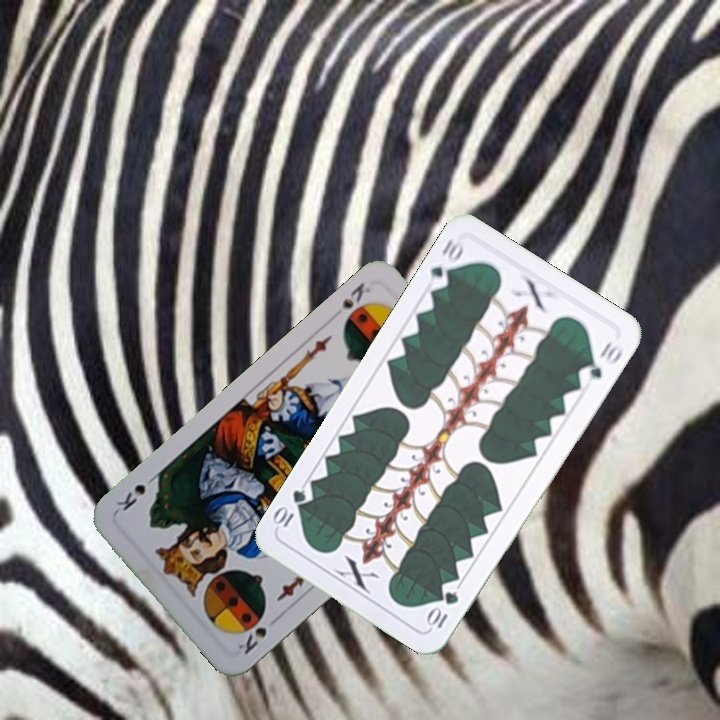G10: (426, 234, 468, 293), (423, 587, 462, 631)
SK: (233, 611, 269, 658), (337, 278, 373, 311)
